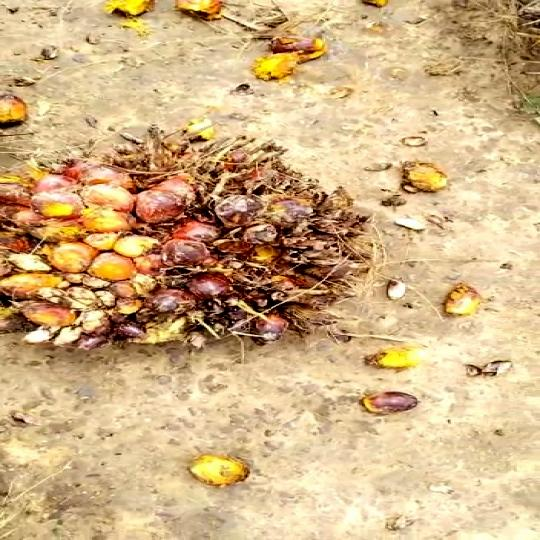masak: (0, 124, 374, 367)
